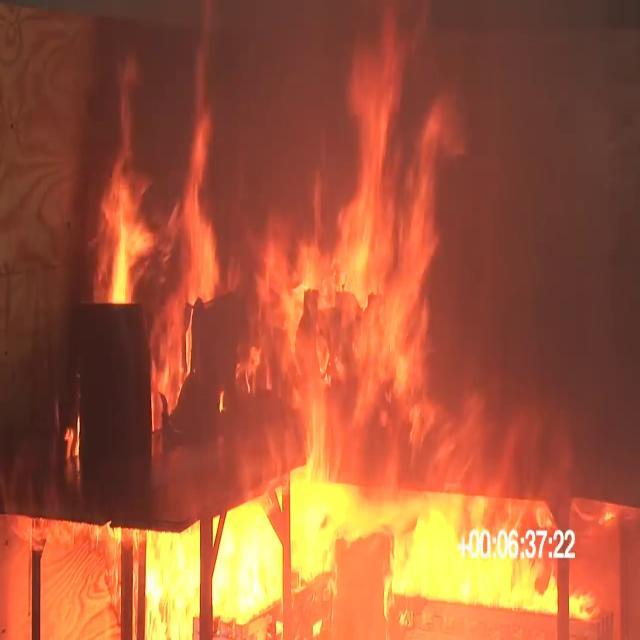Fire: (161, 193, 464, 561), (320, 220, 437, 394), (38, 522, 119, 640), (210, 503, 282, 630), (96, 176, 154, 304), (146, 525, 202, 640)
Smoke: (478, 30, 632, 488), (211, 12, 345, 220), (127, 25, 182, 186), (161, 115, 172, 151)
